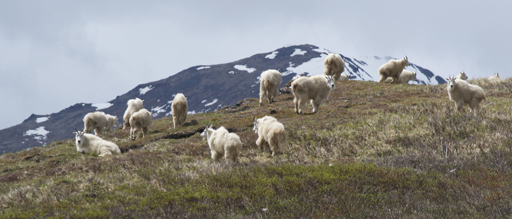sheep: (292, 73, 338, 113), (445, 74, 487, 116), (202, 123, 243, 164), (72, 129, 121, 160), (253, 115, 288, 156), (259, 68, 284, 106), (82, 110, 118, 136), (378, 57, 410, 83), (123, 96, 146, 127), (131, 108, 153, 140), (172, 91, 189, 131), (326, 53, 344, 84)
